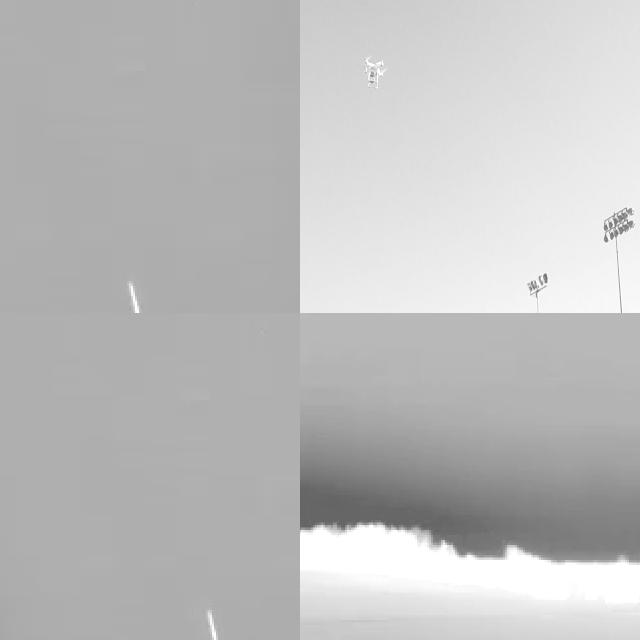drone: (360, 53, 389, 91)
